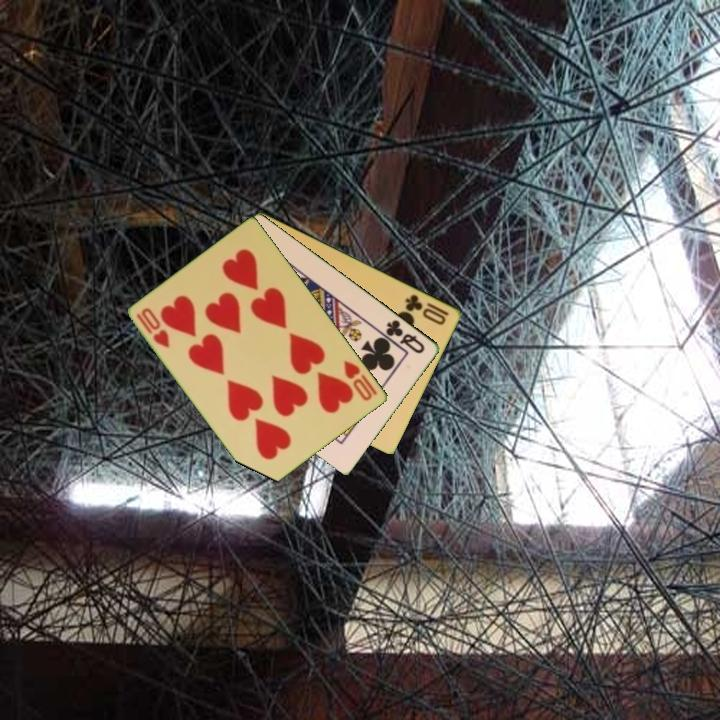10c: (402, 291, 452, 328)
10h: (340, 357, 381, 404), (133, 304, 173, 351)
Qc: (382, 316, 428, 357)
